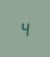four: (19, 19, 28, 37)
